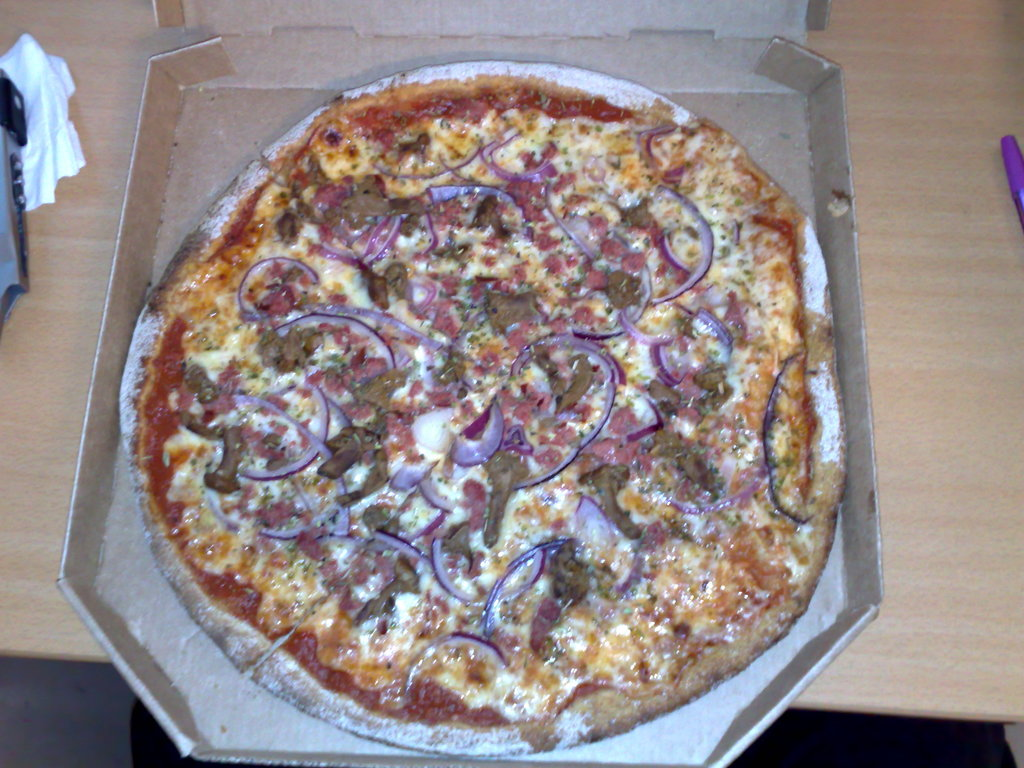Pizza: (126, 60, 876, 744)
